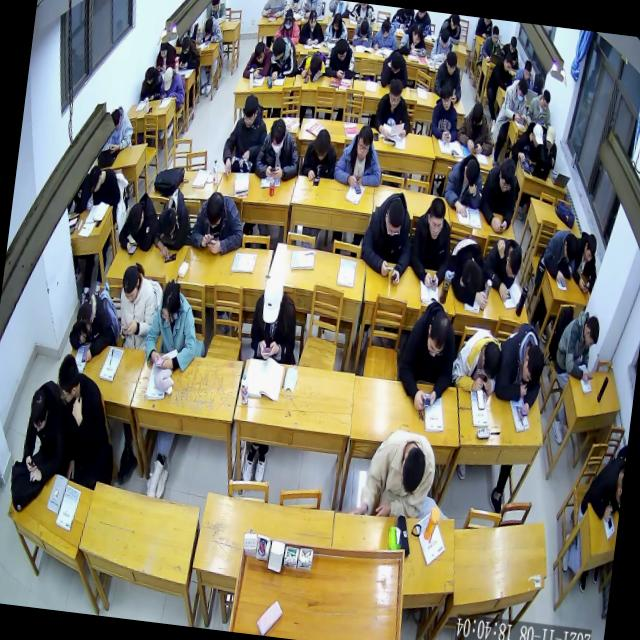bow: (490, 316, 549, 422), (442, 230, 496, 312), (66, 291, 120, 366), (150, 185, 197, 263), (480, 233, 526, 306), (116, 188, 162, 260), (371, 75, 416, 140), (538, 224, 580, 284), (266, 32, 302, 84), (509, 116, 546, 165), (378, 46, 412, 91), (241, 38, 274, 82), (397, 18, 430, 58), (294, 48, 328, 84), (196, 12, 225, 46), (350, 15, 374, 48)
down: (395, 444, 428, 500), (258, 270, 288, 326), (54, 352, 85, 406), (422, 308, 452, 360), (156, 278, 183, 327), (26, 386, 52, 435), (518, 342, 546, 387), (477, 338, 504, 382), (118, 262, 144, 306), (381, 197, 407, 240), (202, 188, 226, 232), (72, 298, 96, 340), (266, 115, 288, 155), (496, 158, 518, 196), (580, 314, 602, 352), (502, 245, 524, 282), (240, 93, 260, 131), (560, 231, 580, 268), (312, 126, 332, 162), (460, 156, 481, 190), (384, 76, 404, 110), (126, 202, 146, 236), (158, 206, 178, 240), (468, 100, 487, 134), (580, 231, 598, 266), (268, 34, 286, 64), (528, 121, 546, 151), (86, 164, 103, 194), (332, 37, 350, 64), (442, 50, 459, 78), (306, 52, 324, 78), (388, 48, 404, 77), (542, 123, 558, 152), (514, 76, 530, 104), (107, 107, 123, 134), (409, 22, 425, 48), (251, 40, 266, 66), (160, 66, 174, 92), (281, 6, 295, 32), (538, 88, 552, 114), (436, 27, 451, 50), (520, 58, 534, 82), (306, 6, 320, 29), (357, 18, 371, 40), (378, 17, 392, 38), (501, 52, 515, 72), (179, 34, 191, 56), (489, 24, 501, 46), (331, 12, 344, 32), (143, 66, 155, 87), (157, 39, 169, 60), (202, 16, 214, 36), (507, 34, 519, 54), (208, 0, 220, 14)
lookup: (423, 194, 448, 243), (354, 123, 376, 162), (436, 82, 454, 113)
sit: (42, 349, 126, 492), (349, 422, 442, 526), (392, 294, 462, 414), (141, 274, 205, 374), (245, 265, 305, 370), (356, 185, 418, 286), (17, 374, 69, 490), (405, 192, 458, 290), (218, 90, 271, 185), (111, 258, 162, 352), (186, 185, 248, 259), (448, 320, 506, 399), (330, 119, 388, 192), (574, 447, 626, 528), (550, 308, 602, 387), (252, 114, 306, 184), (476, 155, 523, 235), (440, 148, 488, 220), (453, 97, 498, 156), (299, 126, 341, 184), (568, 226, 602, 295), (84, 161, 125, 217), (427, 81, 462, 145), (431, 49, 467, 104), (100, 104, 136, 156), (498, 72, 532, 126), (322, 35, 358, 82), (524, 86, 556, 131), (297, 3, 328, 48), (486, 48, 515, 95), (370, 14, 401, 54), (537, 123, 561, 172), (157, 65, 187, 104), (272, 5, 302, 44), (428, 25, 456, 64), (479, 23, 504, 66), (323, 8, 351, 46), (138, 64, 164, 104), (177, 34, 203, 72), (154, 36, 178, 74), (499, 32, 522, 69), (207, 0, 229, 24)
